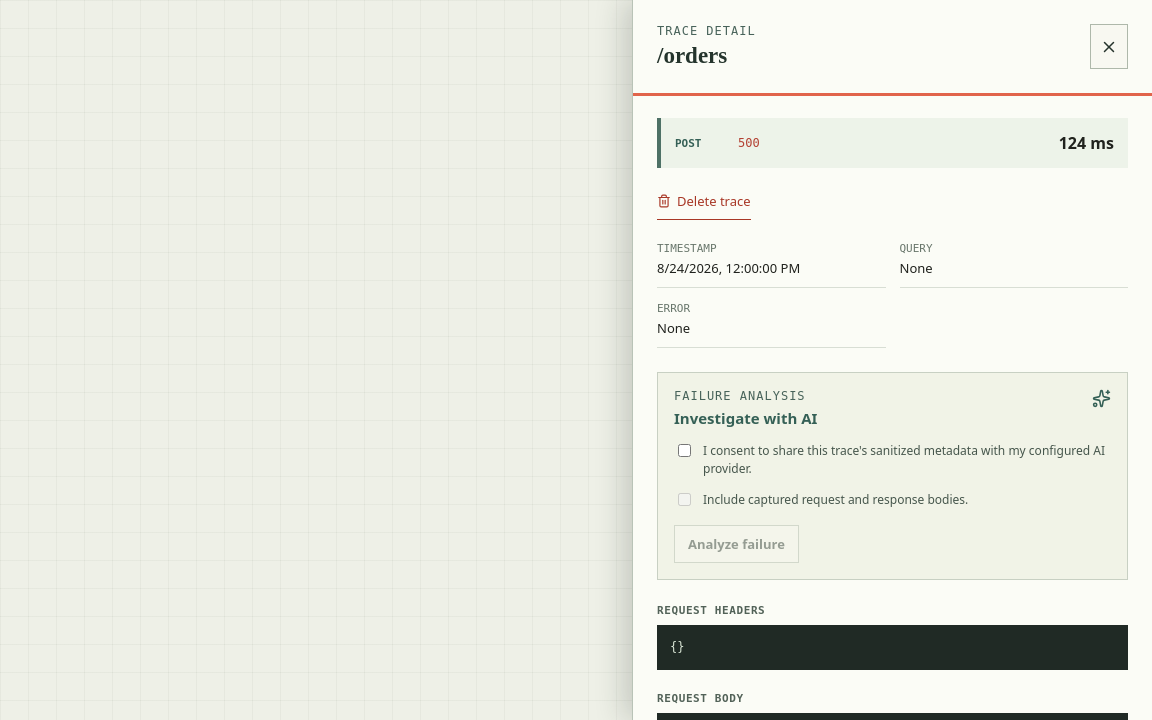
TraceDetail failure analysis › requires consent before enabling analysis or body sharing
Expected: the button "Analyze failure" is disabled, top-left (674, 525), bottom-right (799, 563)
Expected: the checkbox labelled "Include captured request and response bodies." is disabled, top-left (678, 493), bottom-right (691, 506)
What coordinates should you click on to do the following:
click the checkbox labelled "I consent to share this trace's sanitized metadata"
I would click on:
 (684, 451)
Its box is top-left (678, 444), bottom-right (691, 457).
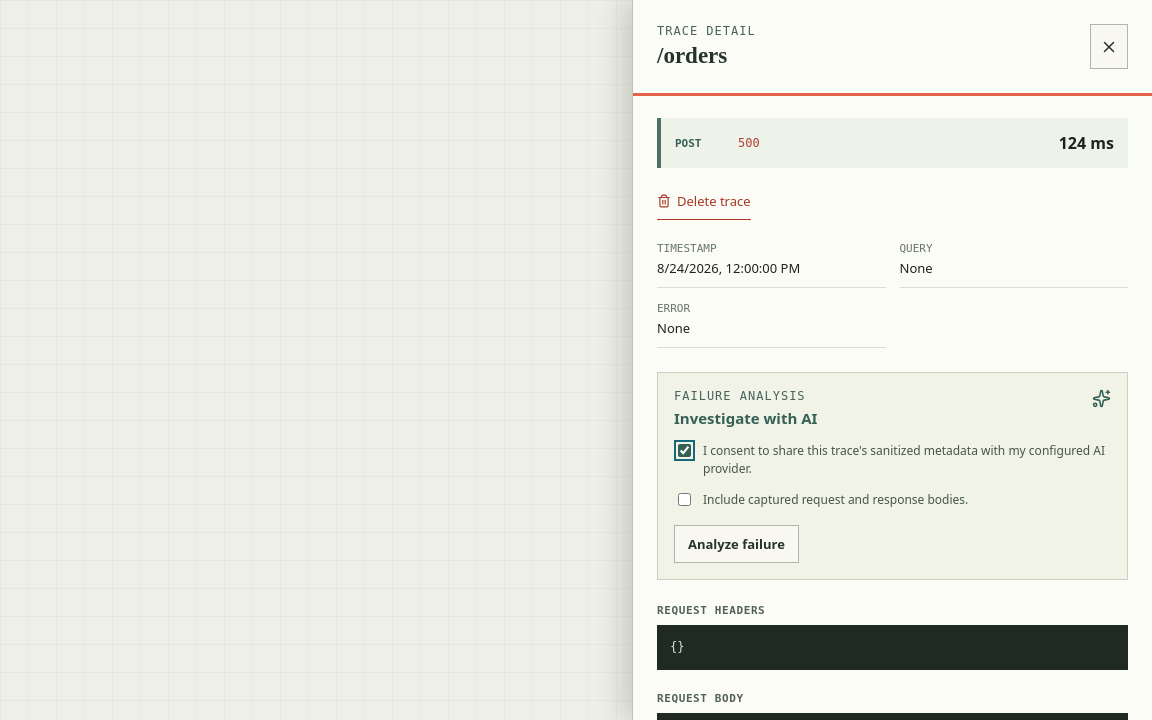
Expected: the button "Analyze failure" is enabled, top-left (674, 525), bottom-right (799, 563)
Expected: the checkbox labelled "Include captured request and response bodies." is enabled, top-left (678, 493), bottom-right (691, 506)
